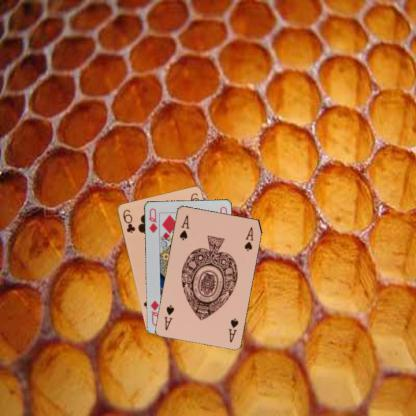6c: (121, 207, 136, 234)
As: (177, 212, 190, 242), (226, 315, 239, 344)
Qd: (146, 206, 158, 234)
